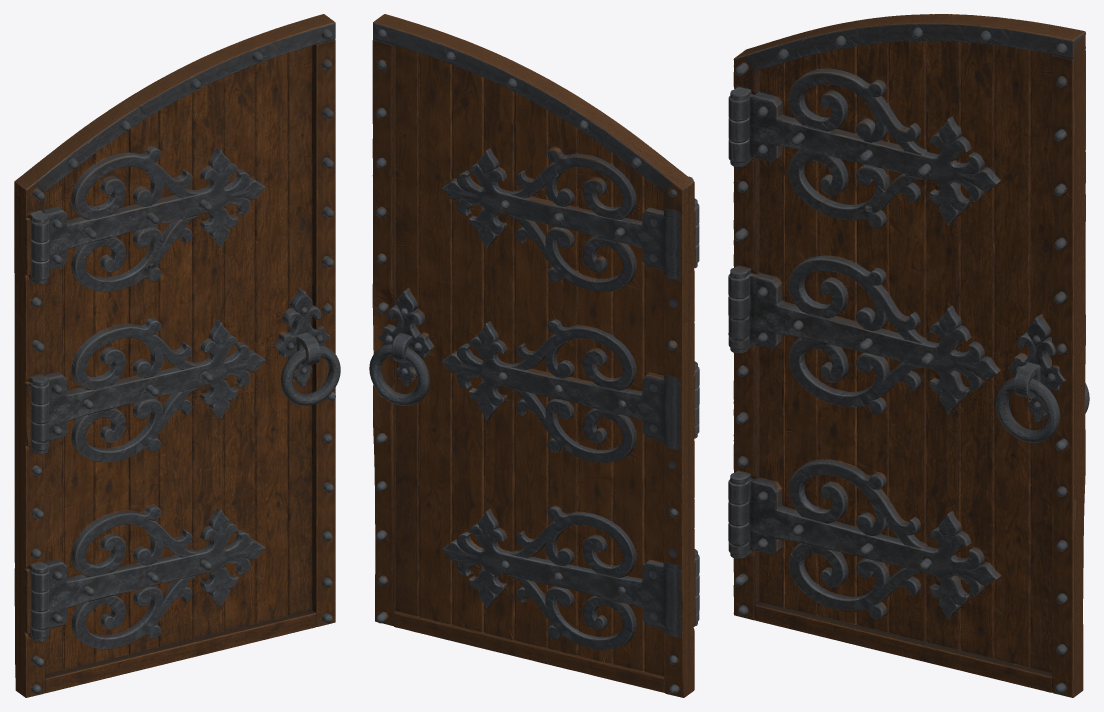
File: door_leaf_ceremonial.glb
3 renders of one model, left to right at view 1: azimuth 30°, elevation 25°; view 2: azimuth 150°, elevation 25°; view 3: azimuth 330°, elevation 25°, orthographic. The views are drawn at different scales.
Visible parts, largest first — view 1: world; view 2: world; view 3: world.
Boxes of the visible parts, left/top/right/bottom form: world: left=14, top=14, right=340, bottom=697; world: left=369, top=14, right=699, bottom=697; world: left=728, top=14, right=1089, bottom=697.
Size of the model in its own units: 1.03 by 1.9 by 0.2004.
1 material, 1 textured.
